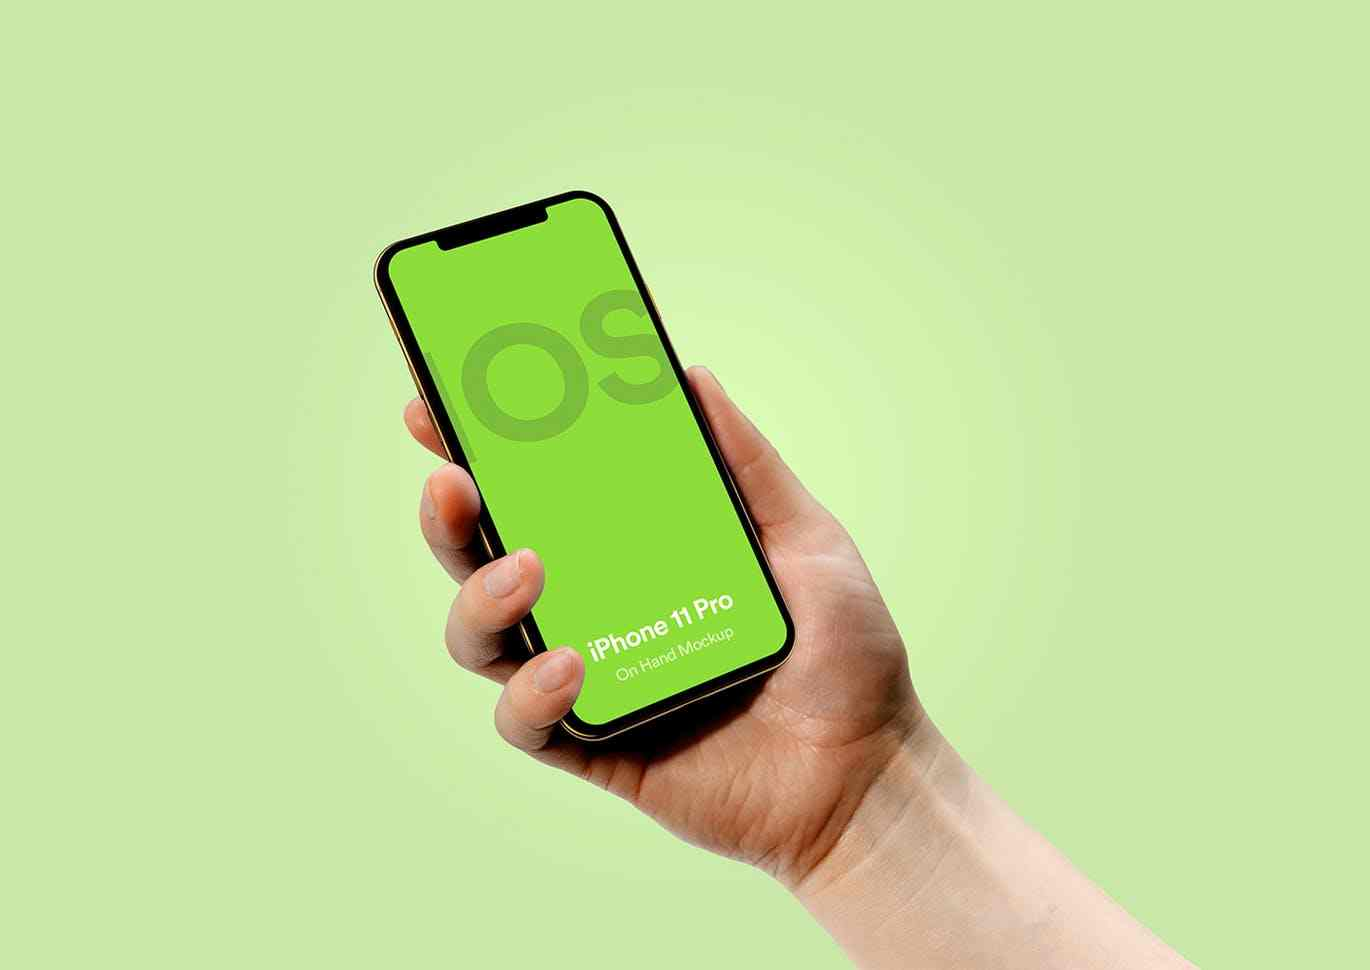phone: (349, 184, 916, 886)
